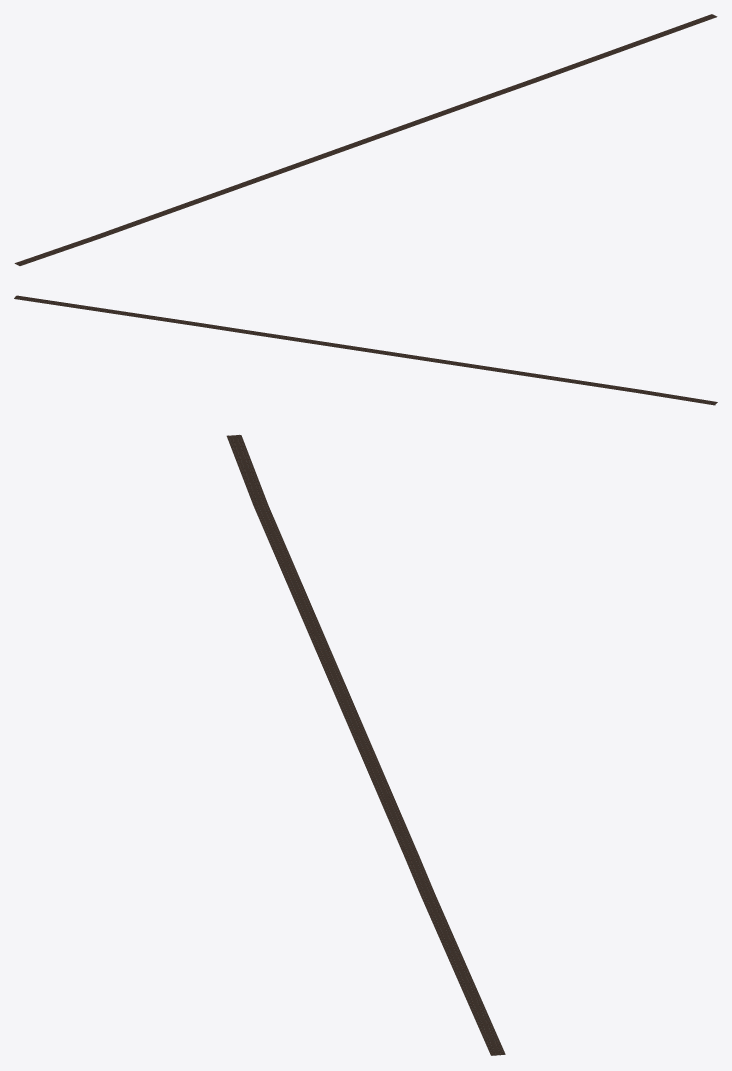
The model's file is kobe_0018.glb.
The picture shows the model from 3 angles, top to bottom: view 1: azimuth 30°, elevation 25°; view 2: azimuth 150°, elevation 25°; view 3: azimuth 270°, elevation 25°; orthographic projection. The views are drawn at different scales.
Visible parts, largest first — view 1: ballast_top, oxidised_rail_profiles; view 2: ballast_top, oxidised_rail_profiles, ballast_left; view 3: ballast_top, oxidised_rail_profiles.
Boxes of the visible parts, bbox=[...] form: ballast_top: bbox=[14, 14, 717, 265]; oxidised_rail_profiles: bbox=[15, 14, 716, 265]; ballast_top: bbox=[14, 295, 717, 404]; oxidised_rail_profiles: bbox=[14, 295, 717, 404]; ballast_left: bbox=[14, 298, 715, 405]; ballast_top: bbox=[226, 435, 505, 1055]; oxidised_rail_profiles: bbox=[228, 435, 503, 1054].
Size of the model in its own units: 744 by 0.819 by 142.
4 materials, 3 textured.
